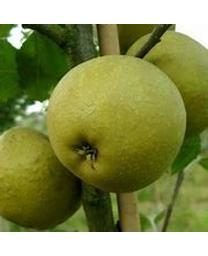apple: (45, 53, 186, 193)
